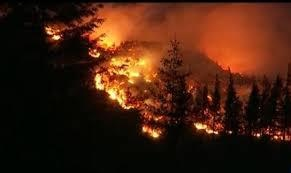fire: (191, 100, 226, 135)
